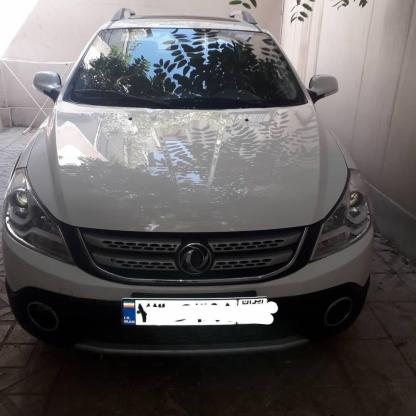Car: (0, 14, 374, 366)
